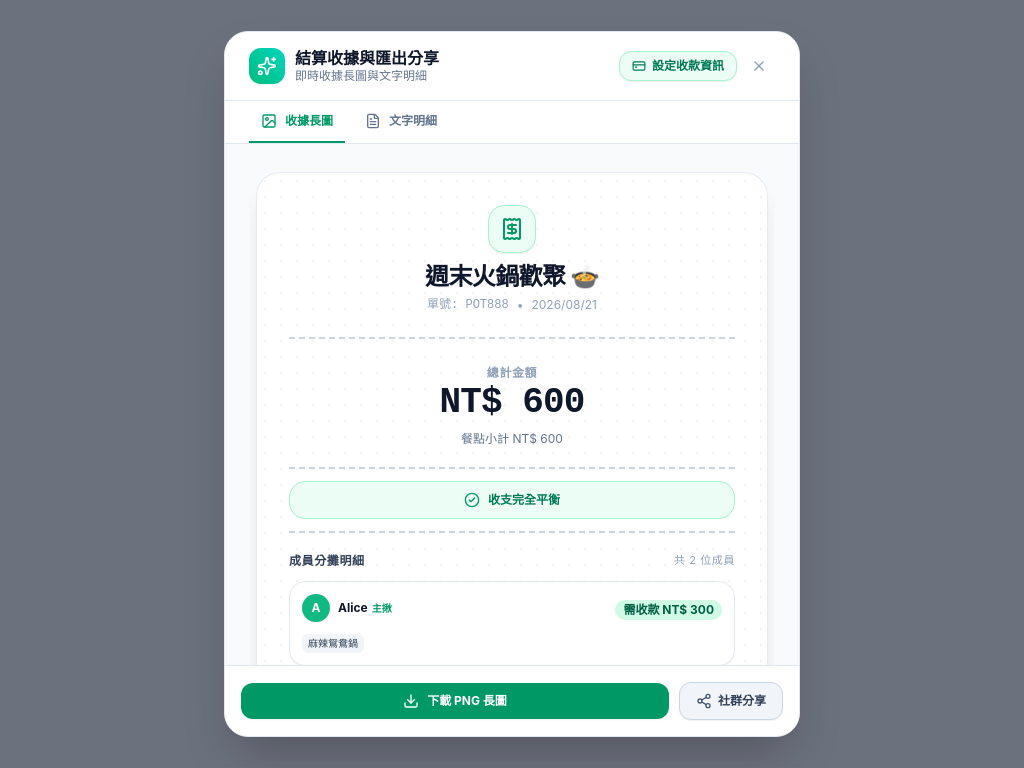
ReceiptExportModal Component › opens PaymentInfoEditor when clicking on edit payment info button
Click the button "設定收款資訊".
click(678, 66)  # box [619,51,737,81]
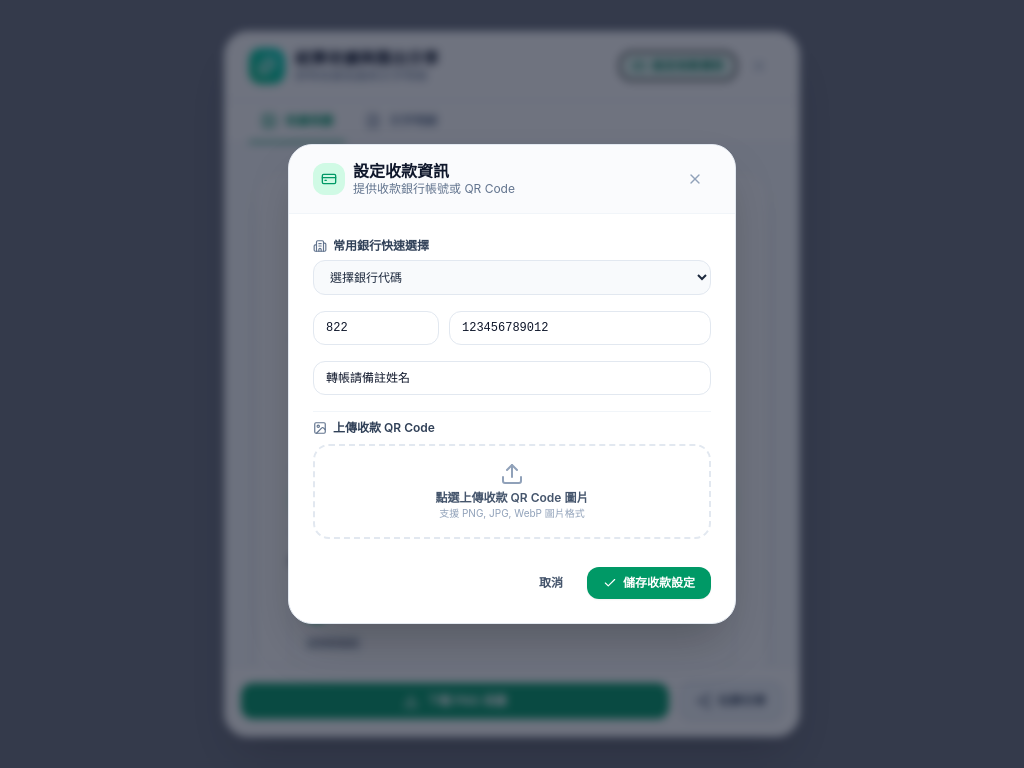
Now the dialog "設定收款資訊" is shown, box [288,144,736,624]
